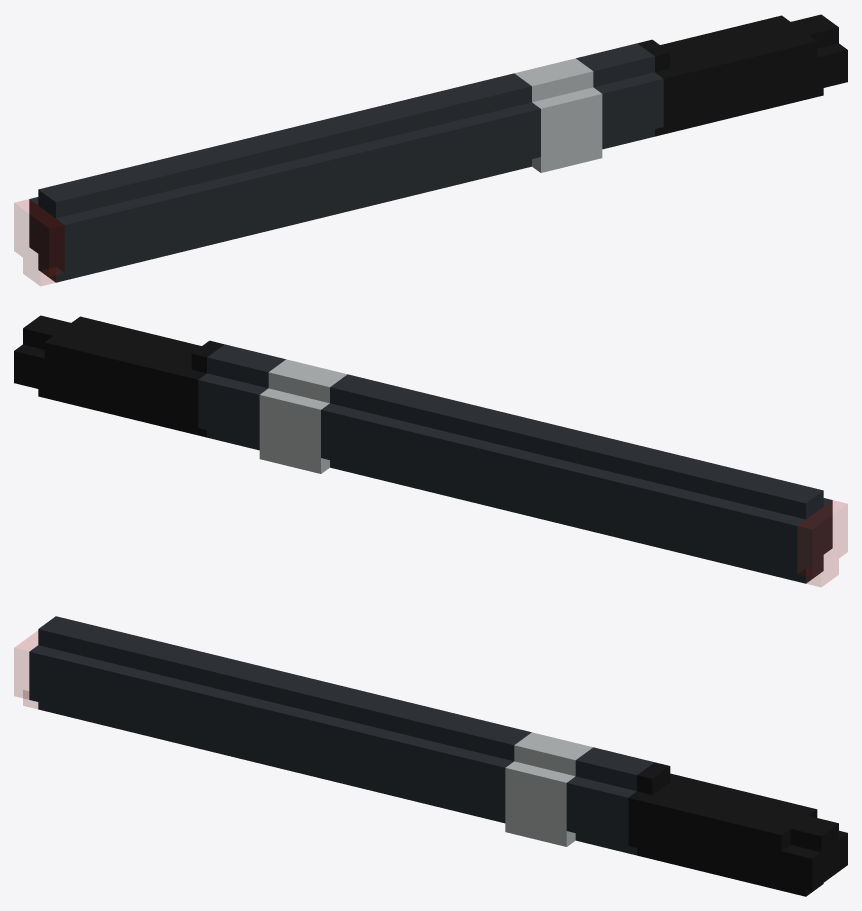
The model's file is ecig.glb.
The picture shows the model from 3 angles, top to bottom: view 1: azimuth 30°, elevation 25°; view 2: azimuth 150°, elevation 25°; view 3: azimuth 330°, elevation 25°; orthographic projection.
Parts seen in each view (by area): view 1: ecig:compound; view 2: ecig:compound; view 3: ecig:compound.
Part boxes in pixels (x1=…): ecig:compound: x1=14, y1=14, x2=847, y2=285; ecig:compound: x1=14, y1=315, x2=847, y2=586; ecig:compound: x1=14, y1=616, x2=847, y2=896.
Bounding box in the file's own units: 0.104 × 0.01 × 0.008.
